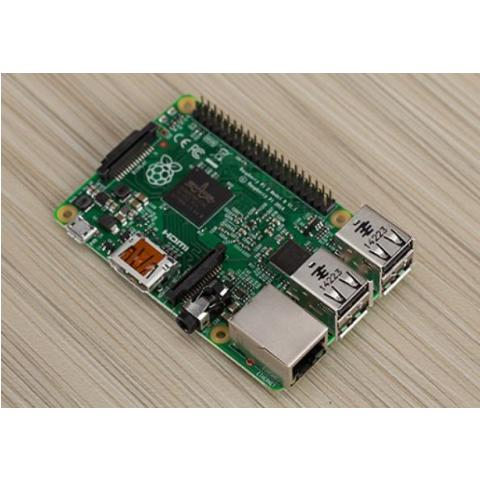Raspberry-Pi-2-Model-B: (48, 87, 424, 396)
